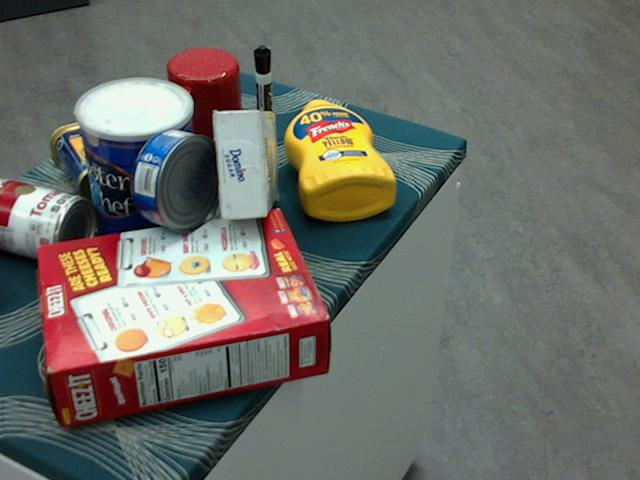cracker_box: (39, 208, 329, 426)
gelatin_box: (0, 294, 1, 301)
large_marker: (254, 44, 272, 149)
master_chef_can: (75, 79, 199, 262)
mug: (165, 48, 246, 147)
mustard_bottle: (284, 98, 396, 220)
potted_meat_can: (50, 111, 170, 207)
sugar_box: (217, 110, 275, 220)
tomato_soup_can: (0, 174, 94, 266)
tuna_fish_can: (130, 128, 224, 231)
